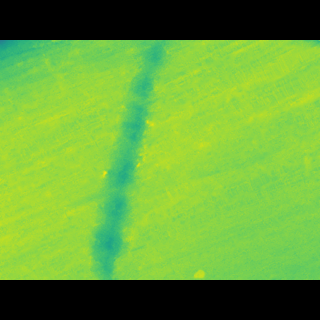Loch: (80, 77, 179, 248)
